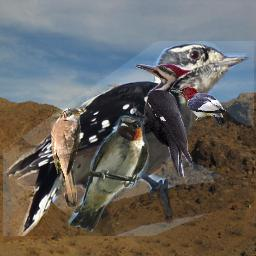Cuckoo: (51, 108, 87, 207)
Swallow: (67, 115, 149, 232)
Woodpecker: (3, 41, 254, 236), (133, 64, 193, 179), (171, 87, 228, 128)
